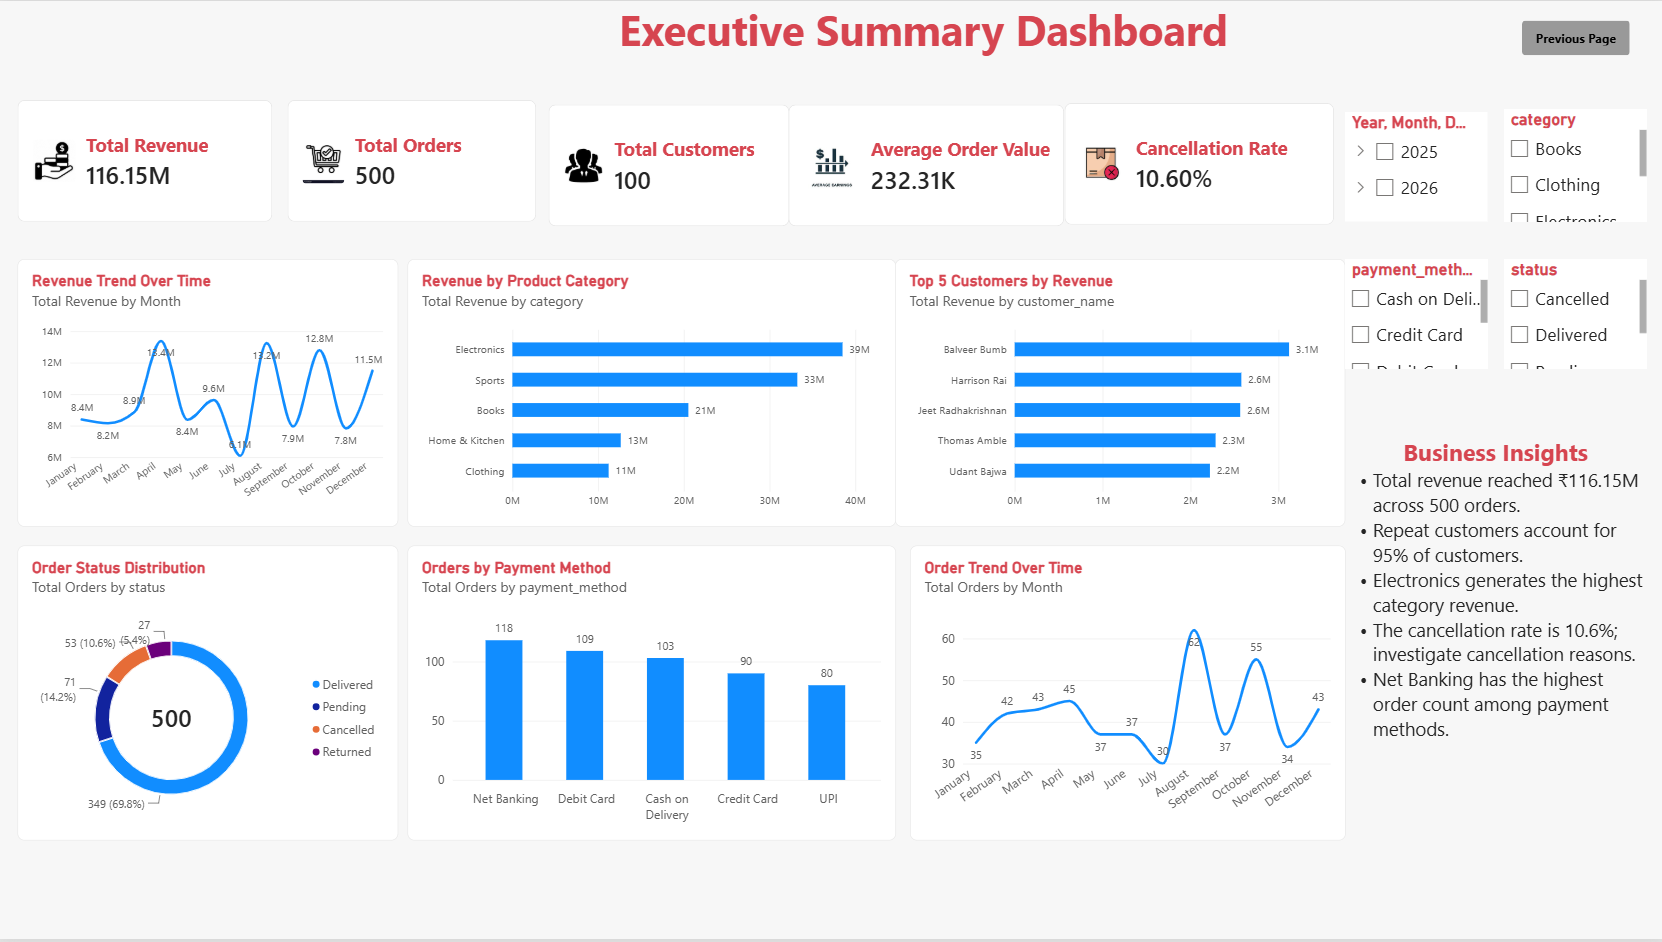

The page's visual inventory and layout, read from the dashboard file:
{"tool":"powerbi","page":{"name":"Executive Summary","canvas":[1920,1080],"ordinal":5},"visuals":[{"type":"textbox","box":[715,0,707.7,83.9],"z":0},{"type":"cardVisual","fields":{"Data":["order_items.Total Revenue"]},"box":[21.9,113.1,293.7,140.4],"z":1},{"type":"cardVisual","fields":{"Data":["order_items.Total Orders"]},"box":[333.8,113.1,286.4,140.4],"z":2},{"type":"cardVisual","fields":{"Data":["customers.Total Customers"]},"box":[632.9,118.6,277.2,140.4],"z":3},{"type":"cardVisual","fields":{"Data":["order_items.Average Order Value"]},"box":[910.2,118.6,317.4,140.4],"z":4},{"type":"cardVisual","fields":{"Data":["orders.Cancellation Rate"]},"box":[1227.5,116.7,310.1,140.4],"z":5},{"type":"lineChart","title":"Revenue Trend Over Time","fields":{"Category":["DateTable.Date Hierarchy.Year","DateTable.Date Hierarchy.Month","DateTable.Date Hierarchy.Quarter","DateTable.Date Hierarchy.Date"],"Y":["order_items.Total Revenue"]},"box":[21.9,297.3,437.7,308.2],"z":6},{"type":"clusteredBarChart","title":"Revenue by Product Category","fields":{"Category":["products.category"],"Y":["order_items.Total Revenue"]},"box":[470.6,297.3,561.8,308.2],"z":7},{"type":"clusteredBarChart","title":"Top 5 Customers by Revenue","fields":{"Category":["customers.customer_name"],"Y":["order_items.Total Revenue"]},"box":[1032.4,297.3,518,308.2],"z":8},{"type":"donutChart","title":"Order Status Distribution","fields":{"Category":["orders.status"],"Y":["order_items.Total Orders"]},"box":[21.9,625.6,437.7,339.3],"z":9},{"type":"clusteredColumnChart","title":"Orders by Payment Method","fields":{"Category":["orders.payment_method"],"Y":["order_items.Total Orders"]},"box":[470.6,625.6,562,339],"z":10},{"type":"lineChart","title":"Order Trend Over Time","fields":{"Category":["DateTable.Date Hierarchy.Year","DateTable.Date Hierarchy.Month","DateTable.Date Hierarchy.Quarter","DateTable.Date Hierarchy.Date"],"Y":["order_items.Total Orders"]},"box":[1048.8,625.6,501.6,339.3],"z":11},{"type":"slicer","fields":{"Values":["DateTable.Date Hierarchy.Year","DateTable.Date Hierarchy.Month","DateTable.Date Hierarchy.Date"]},"box":[1550.4,127.7,164.2,125.9],"z":12},{"type":"slicer","fields":{"Values":["products.category"]},"box":[1732.8,124,164.2,129.5],"z":13},{"type":"slicer","fields":{"Values":["orders.status"]},"box":[1732.8,297.3,164.2,125.9],"z":14},{"type":"slicer","fields":{"Values":["orders.payment_method"]},"box":[1550.4,297.3,164.2,125.9],"z":15},{"type":"textbox","box":[1550.4,499.8,346.6,390.3],"z":16},{"type":"actionButton","box":[1752.8,21.9,124,40.1],"z":17}]}

Visuals, with their boxes in screenshot pixels (x1, y1, x2, y2), scaled from the page's 1920x1080 canvas onto the 1662x942 screenshot:
textbox: <bbox>619, 0, 1232, 73</bbox>
cardVisual - order_items.Total Revenue: <bbox>19, 99, 273, 221</bbox>
cardVisual - order_items.Total Orders: <bbox>289, 99, 537, 221</bbox>
cardVisual - customers.Total Customers: <bbox>548, 103, 788, 226</bbox>
cardVisual - order_items.Average Order Value: <bbox>788, 103, 1063, 226</bbox>
cardVisual - orders.Cancellation Rate: <bbox>1063, 102, 1331, 224</bbox>
"Revenue Trend Over Time" lineChart: <bbox>19, 259, 398, 528</bbox>
"Revenue by Product Category" clusteredBarChart: <bbox>407, 259, 894, 528</bbox>
"Top 5 Customers by Revenue" clusteredBarChart: <bbox>894, 259, 1342, 528</bbox>
"Order Status Distribution" donutChart: <bbox>19, 546, 398, 842</bbox>
"Orders by Payment Method" clusteredColumnChart: <bbox>407, 546, 894, 841</bbox>
"Order Trend Over Time" lineChart: <bbox>908, 546, 1342, 842</bbox>
slicer - DateTable.Date Hierarchy.Year x DateTable.Date Hierarchy.Month: <bbox>1342, 111, 1484, 221</bbox>
slicer - products.category: <bbox>1500, 108, 1642, 221</bbox>
slicer - orders.status: <bbox>1500, 259, 1642, 369</bbox>
slicer - orders.payment_method: <bbox>1342, 259, 1484, 369</bbox>
textbox: <bbox>1342, 436, 1642, 776</bbox>
actionButton: <bbox>1517, 19, 1625, 54</bbox>
